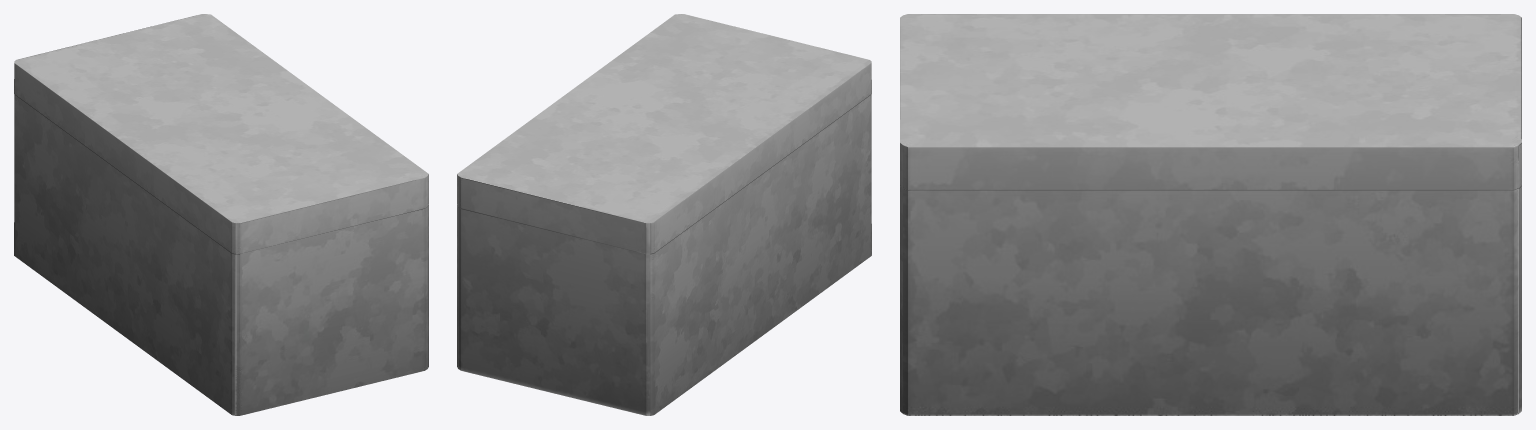
File: Sterofoam_Box.glb
The picture shows the model from 3 angles, left to right: view 1: azimuth 30°, elevation 25°; view 2: azimuth 150°, elevation 25°; view 3: azimuth 270°, elevation 25°; orthographic projection. The views are drawn at different scales.
Visible parts, largest first — view 1: Sterofoam_Box; view 2: Sterofoam_Box; view 3: Sterofoam_Box.
Boxes of the visible parts, box(x1,y1,x2,y2) form: Sterofoam_Box: box(14, 14, 428, 415); Sterofoam_Box: box(457, 14, 871, 415); Sterofoam_Box: box(900, 14, 1521, 415).
Size of the model in its own units: 0.6075 by 0.5692 by 1.19.
1 material, 1 textured.
